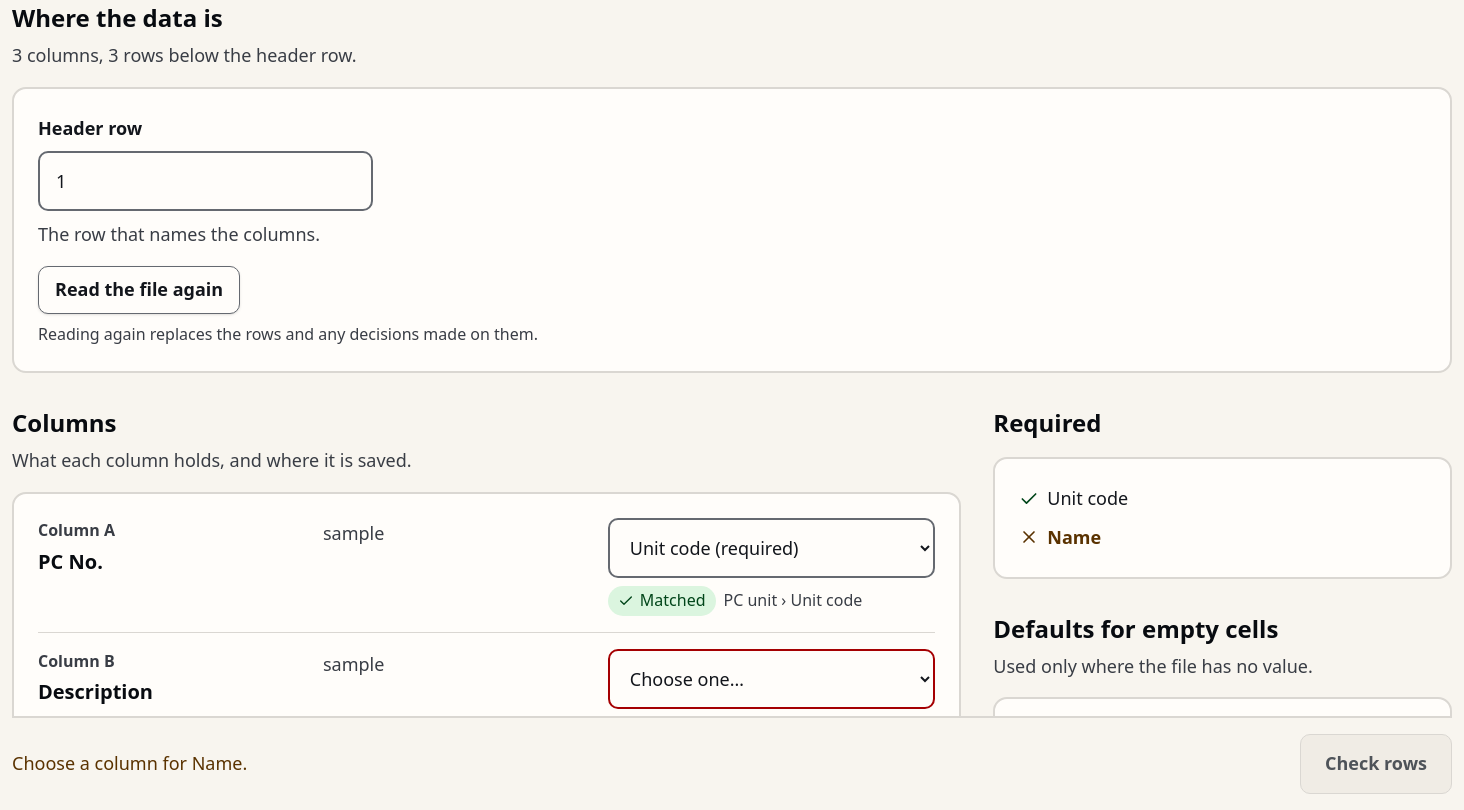
Test: MappingStep › blocks an ambiguous column until it is decided, even as Not imported
This screenshot has width=1464, height=810.
Select "Name" in the dropdown named "Import column B, Description, as". click: (772, 679)
box: [608,649,935,709]
(page scrolled)
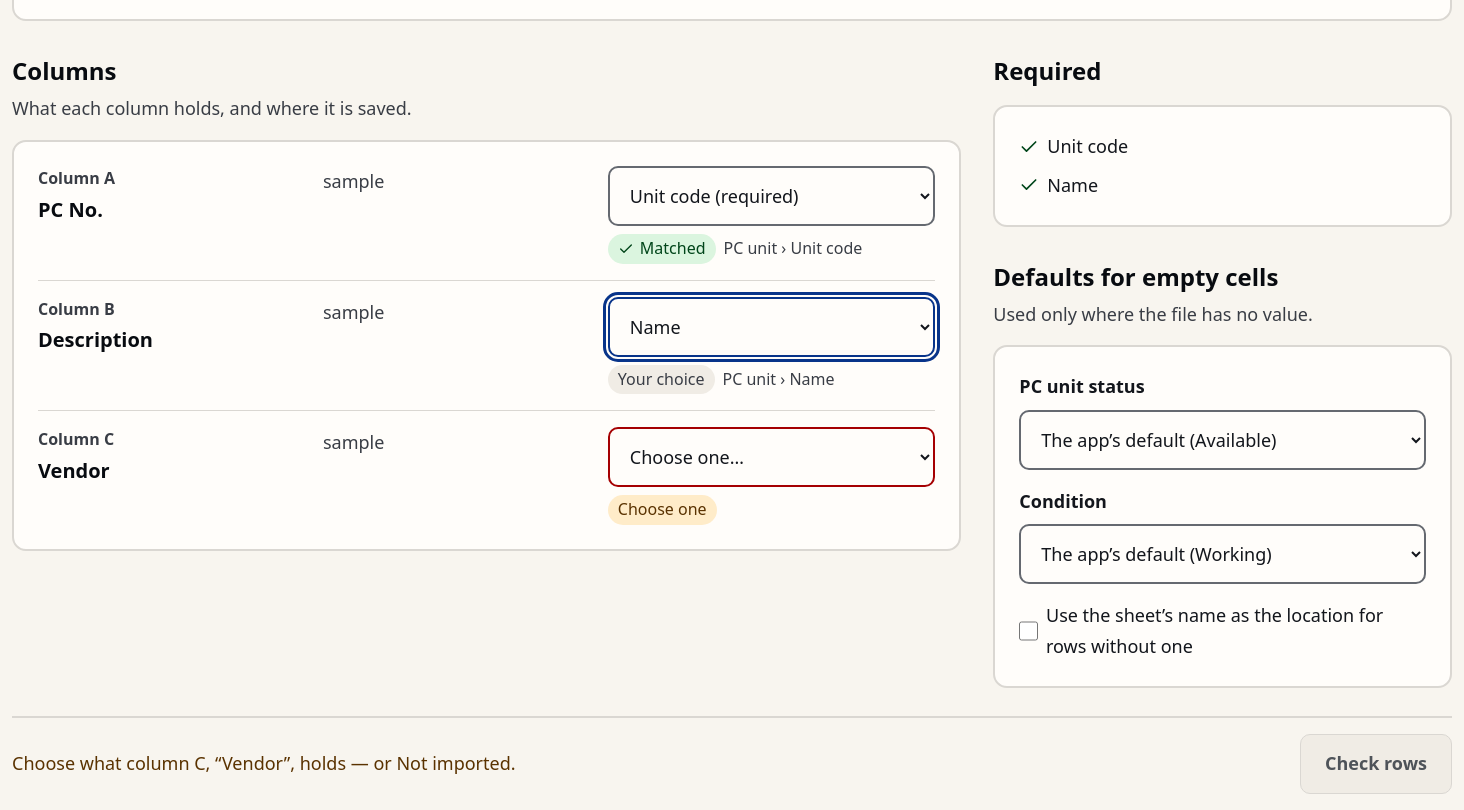
Check: the message shows "Choose what column C, “Vendor”, holds", box [12,752,516,776]
Select "Not imported" in the dropdown named "Import column C, Vendor, as". click: (772, 457)
box: [608,427,935,487]
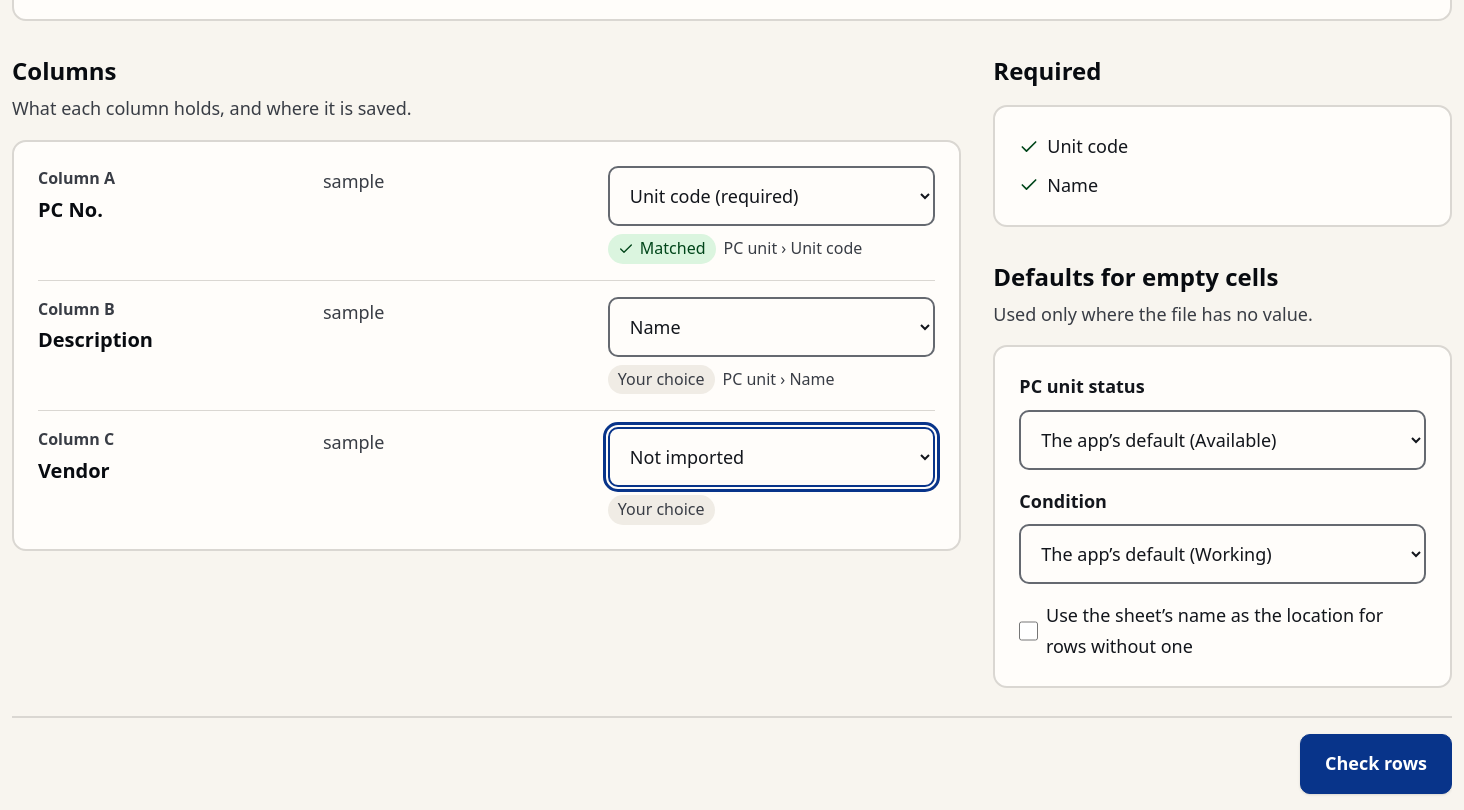
Check: the button "Check rows" is enabled, box [1300,734,1452,794]
